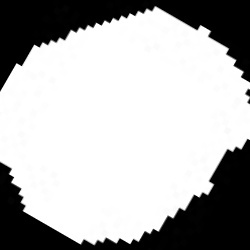spot: (1, 7, 248, 246)
